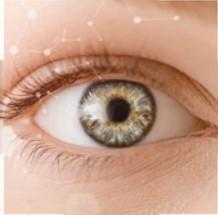eye: (80, 79, 158, 150)
